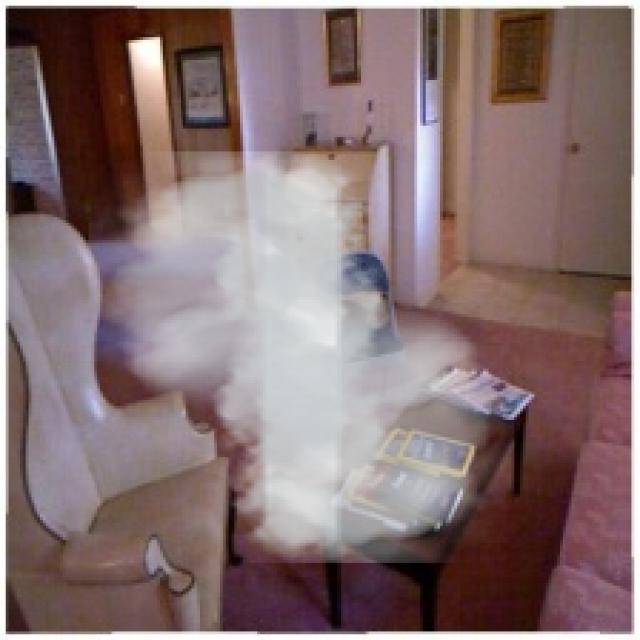Smoke: (88, 151, 514, 563)
